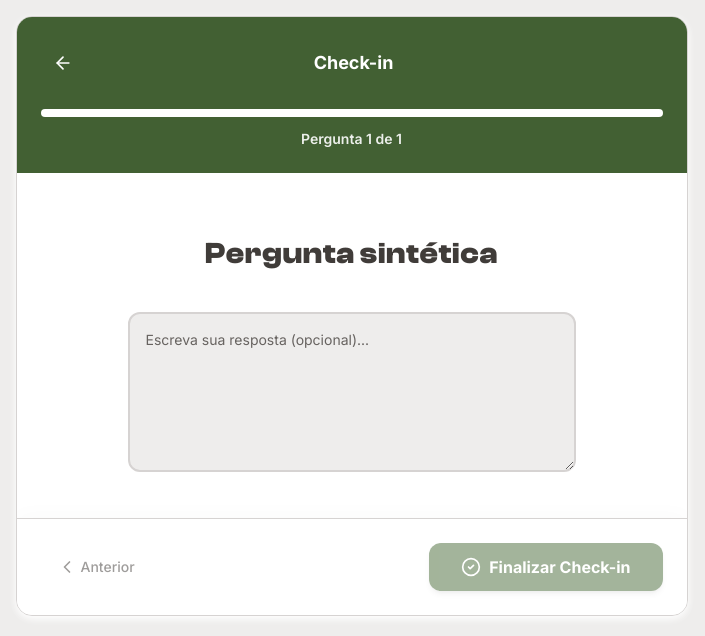
Test: truthful check-in lifecycle and explicit answers › clears private answers when the send is denied
Expected: the heading "Pergunta sintética" is shown, 205,236 -> 498,270
Type "Synthetic private answer" into the text box. click: (352, 392)
box: 128,312 -> 576,472
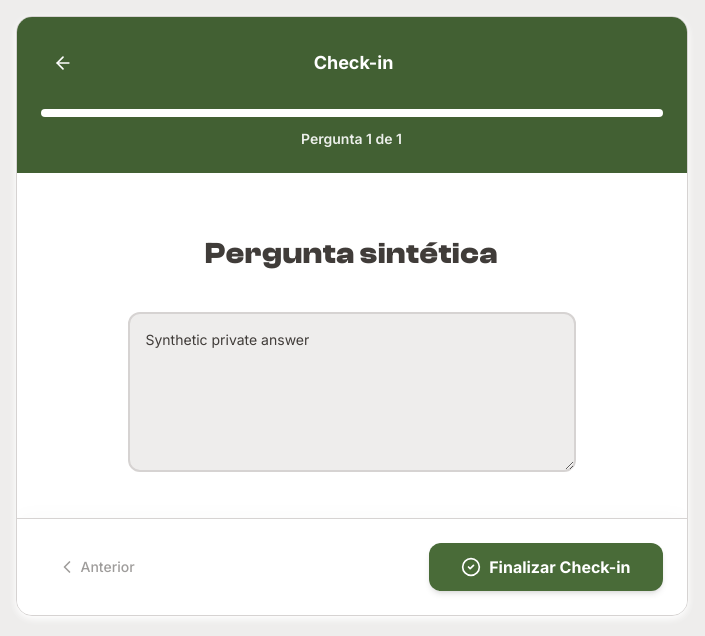
Click the button "Finalizar Check-in". click: (546, 567)
box: 429,543 -> 662,591
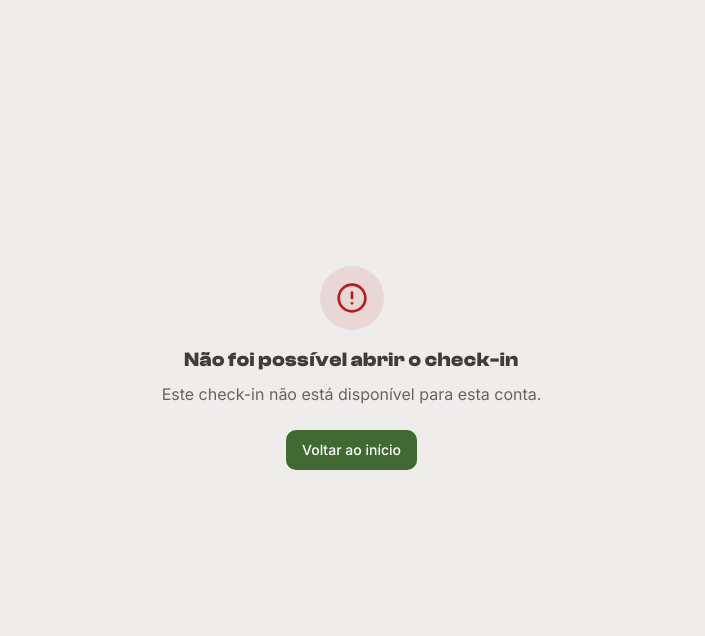
Expected: the field showing "Synthetic private answer" is not shown
Result: the text "Este check-in não está disponível para esta conta." is shown at 162,382 -> 541,406
